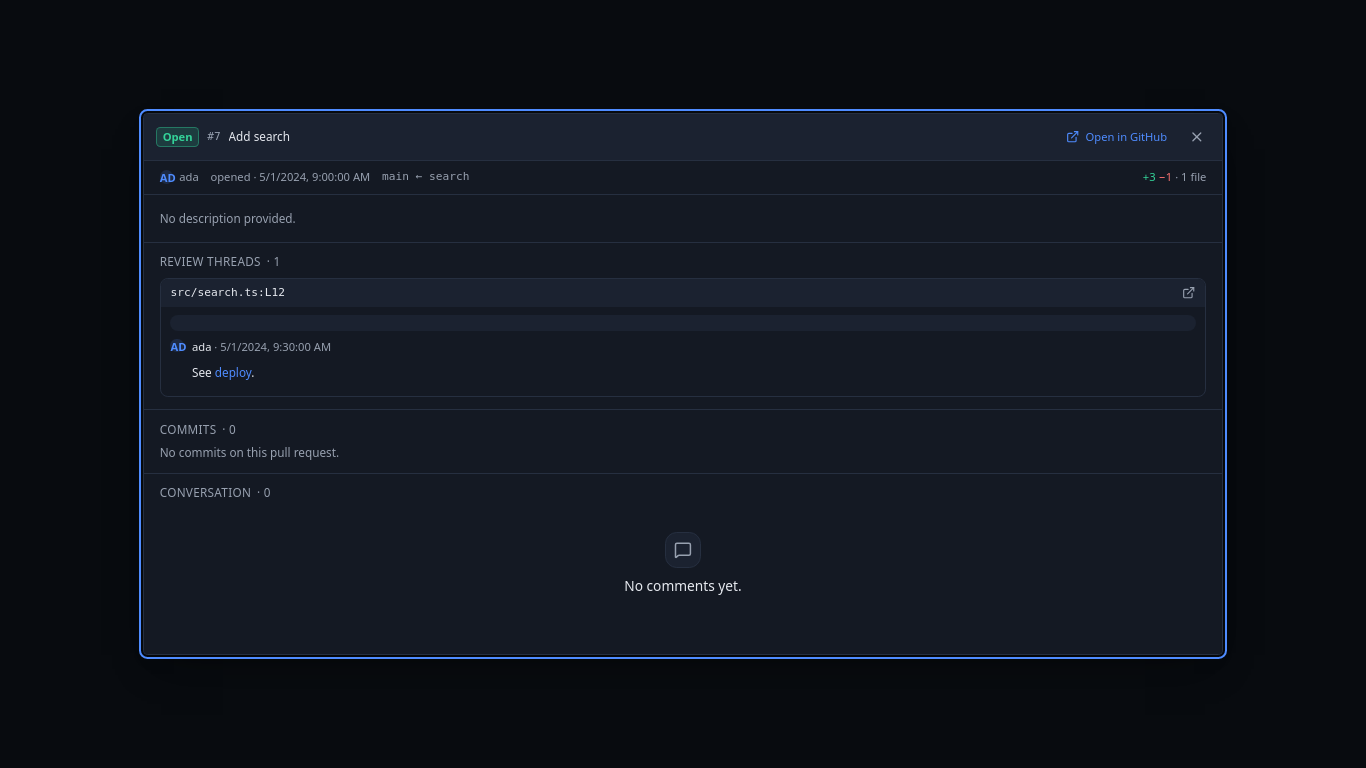
Test: PRDetailModal › follows review comment links out of the thread block
Click the link "deploy".
click(233, 372)  # box top-left (215, 364), bottom-right (251, 380)
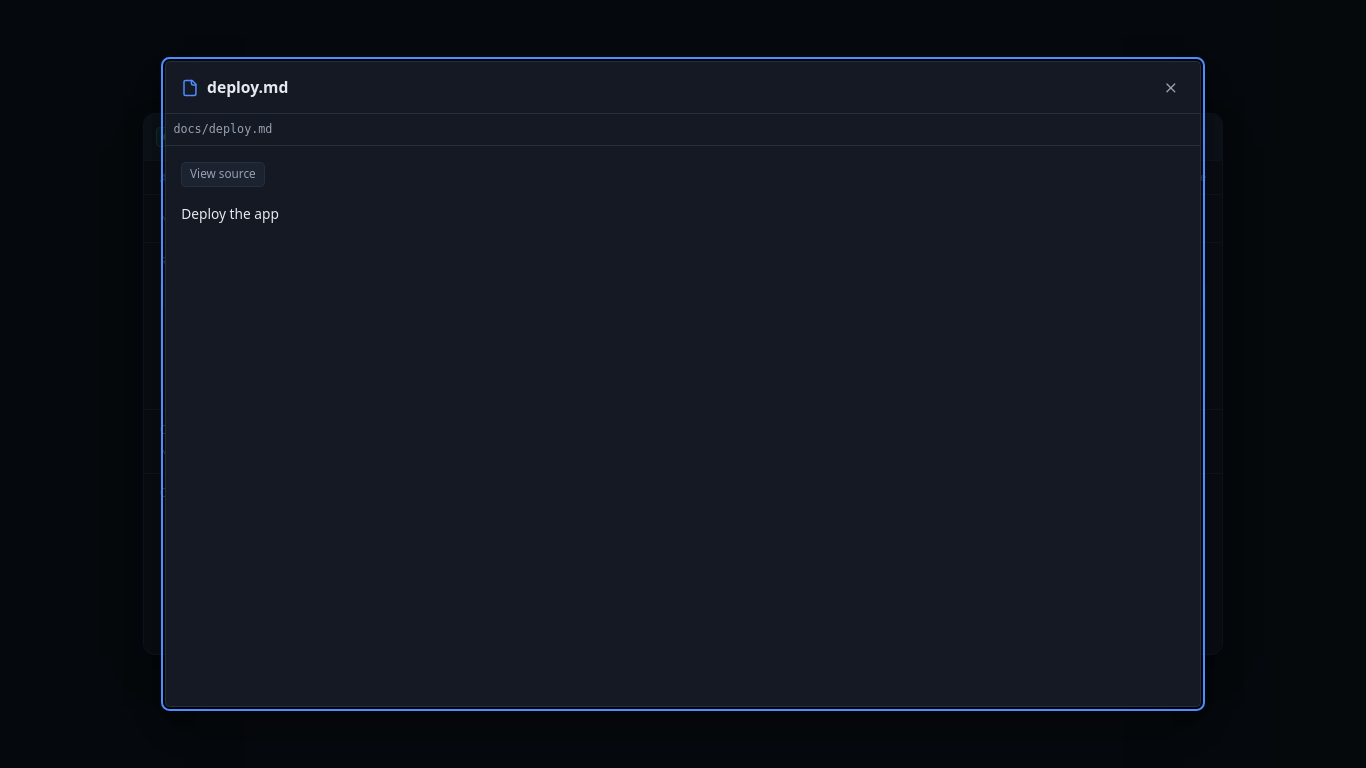
Check: the text "Deploy the app" is shown, box top-left (181, 204), bottom-right (279, 223)
